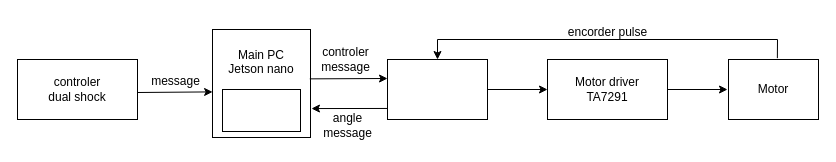
Image size: 836x162. Some labels were removed from this diagram. Each missing label, with the centre of its shape:
"DNS server (LAN only)" goes at pixel 261 110.
"ESP32" goes at pixel 437 89.
